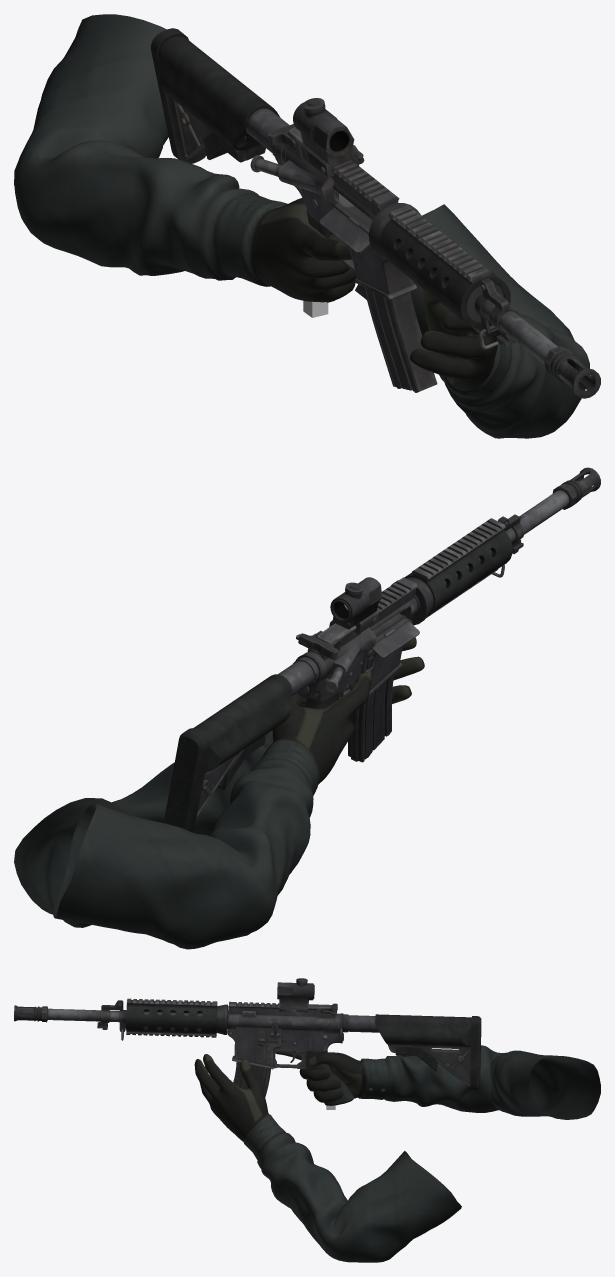
Rendered from gun_000039.obj.
3 renders of one model, top to bottom at view 1: azimuth 30°, elevation 25°; view 2: azimuth 150°, elevation 25°; view 3: azimuth 270°, elevation 25°, orthographic. The views are drawn at different scales.
Visible parts, largest first — view 1: armmesh_arms_0, base_carbine_0, clip_carbine_0, scope_carbine_0, lid_carbine_0; view 2: armmesh_arms_0, base_carbine_0, clip_carbine_0, scope_carbine_0, lid_carbine_0; view 3: armmesh_arms_0, base_carbine_0, scope_carbine_0, clip_carbine_0.
Boxes of the visible parts, box(x1,y1,x2,y2) form: armmesh_arms_0: box(14, 14, 589, 438); base_carbine_0: box(151, 28, 600, 398); clip_carbine_0: box(364, 287, 437, 392); scope_carbine_0: box(293, 98, 364, 177); lid_carbine_0: box(319, 207, 369, 253); armmesh_arms_0: box(14, 637, 424, 949); base_carbine_0: box(164, 467, 600, 831); clip_carbine_0: box(348, 673, 394, 762); scope_carbine_0: box(329, 577, 382, 633); lid_carbine_0: box(371, 621, 419, 658); armmesh_arms_0: box(194, 1045, 600, 1262); base_carbine_0: box(14, 998, 481, 1105); scope_carbine_0: box(277, 978, 314, 1012); clip_carbine_0: box(233, 1062, 270, 1097).
Bounding box in the file's own units: 51.63 × 51.84 × 127.
